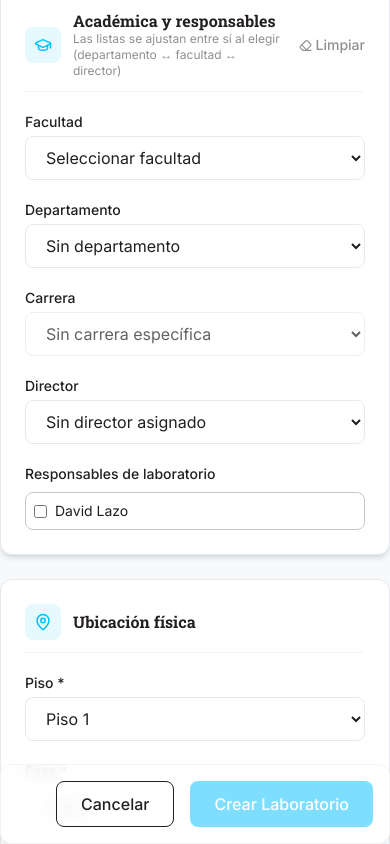
Test case: CrearLaboratorioPage › cascada: elegir director autocompleta su departamento
(page scrolled)
Step 1. Select "Diego Milanes" in the 4th dropdown named "Diego Milanes" → (195, 422), box [25,400,365,444]
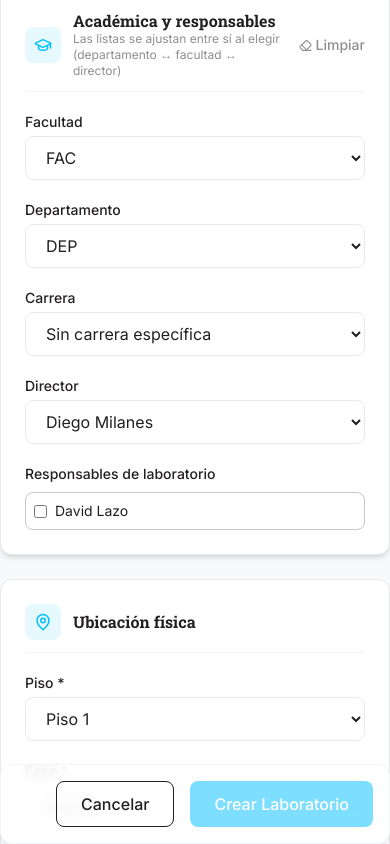
Expected: the 2nd dropdown named "DEP" shows "DEP", [25,224,365,268]
